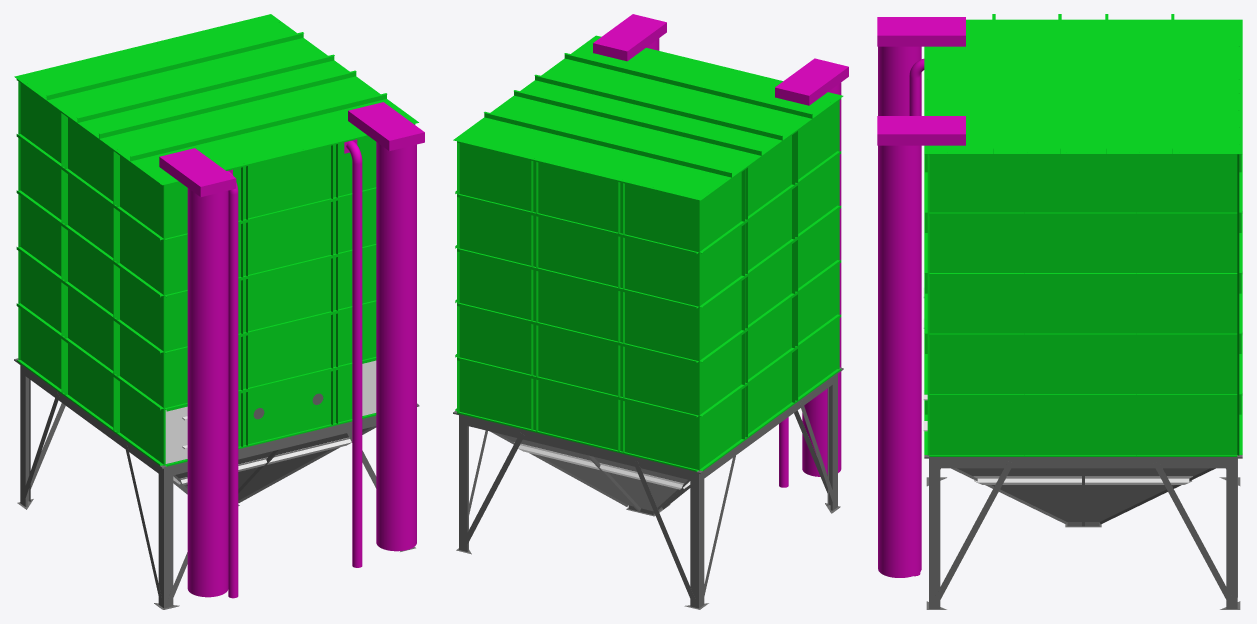
Rendered from variants.gltf.
The picture shows the model from 3 angles, left to right: view 1: azimuth 30°, elevation 25°; view 2: azimuth 150°, elevation 25°; view 3: azimuth 270°, elevation 25°; orthographic projection. The views are drawn at different scales.
Parts seen in each view (by area): view 1: Sektion_630_A-300-skillerum, Filterkasse_med_pose_4500, Fladt_l#A300, Sektion_630_A-300-skillerum_m._hul, object 1, object 7, insp_luge_AGRO, object 5; view 2: Sektion_630_A-300-skillerum, Fladt_l#A300, Sektion_630_A-300-skillerum_m._hul, object 1, Filterkasse_med_pose_4500, object 7, object 6, object 5; view 3: Sektion_630_A-300-skillerum, Fladt_l#A300, Filterkasse_med_pose_4500, Sektion_630_A-300-skillerum_m._hul, object 1, object 5, object 6, object 7.
Boxes of the visible parts, x1=… form: Sektion_630_A-300-skillerum: x1=16, y1=35, x2=415, y2=410; Filterkasse_med_pose_4500: x1=159, y1=102, x2=424, y2=597; Fladt_l#A300: x1=14, y1=14, x2=418, y2=185; Sektion_630_A-300-skillerum_m._hul: x1=16, y1=303, x2=376, y2=466; object 1: x1=14, y1=358, x2=419, y2=609; object 7: x1=227, y1=139, x2=362, y2=598; insp_luge_AGRO: x1=165, y1=360, x2=376, y2=463; object 5: x1=173, y1=437, x2=351, y2=484; Sektion_630_A-300-skillerum: x1=455, y1=43, x2=841, y2=417; Fladt_l#A300: x1=453, y1=35, x2=843, y2=200; Sektion_630_A-300-skillerum_m._hul: x1=455, y1=314, x2=841, y2=471; object 1: x1=453, y1=367, x2=843, y2=609; Filterkasse_med_pose_4500: x1=593, y1=14, x2=848, y2=476; object 7: x1=779, y1=417, x2=788, y2=487; object 6: x1=514, y1=442, x2=690, y2=488; object 5: x1=599, y1=463, x2=683, y2=489; Sektion_630_A-300-skillerum: x1=924, y1=21, x2=1242, y2=396; Fladt_l#A300: x1=924, y1=14, x2=1242, y2=154; Filterkasse_med_pose_4500: x1=877, y1=17, x2=965, y2=577; Sektion_630_A-300-skillerum_m._hul: x1=924, y1=394, x2=1242, y2=456; object 1: x1=924, y1=455, x2=1242, y2=609; object 5: x1=974, y1=476, x2=1192, y2=484; object 6: x1=974, y1=476, x2=1192, y2=484; object 7: x1=909, y1=58, x2=924, y2=576.
Size of the model in its own units: 119 by 193 by 136.
